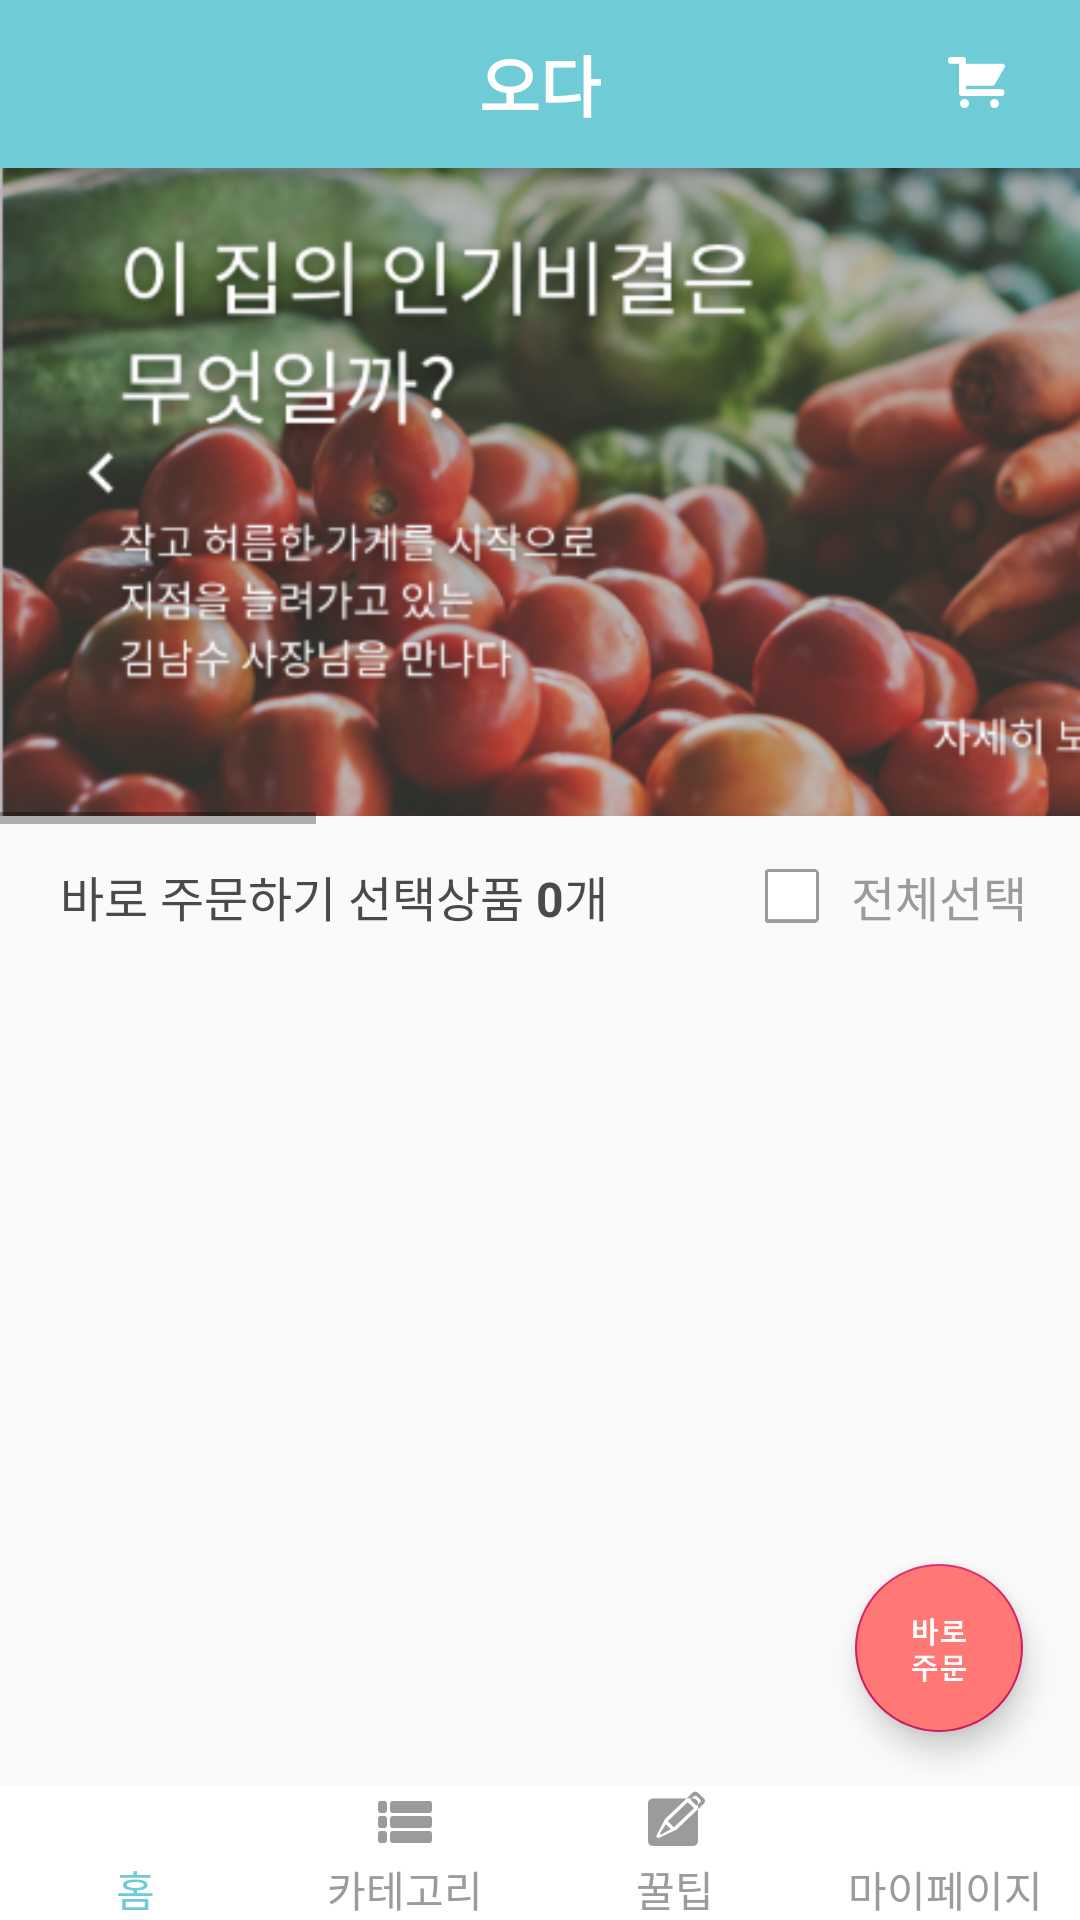

Screen size 1080*1920. Icon name, then its box in pixels as (x1, y1, x2, y2):
shopping cart: (948, 57, 1005, 108)
